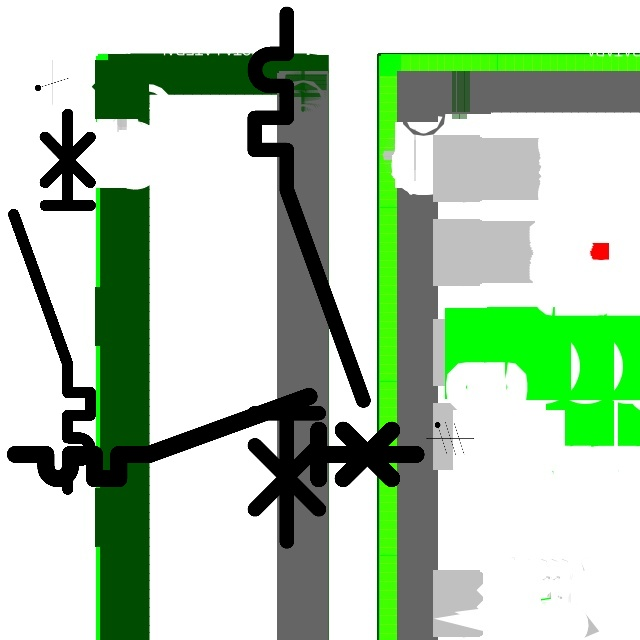interruptor_termomagnetico: (241, 0, 377, 555), (5, 386, 426, 489), (4, 104, 100, 498)
